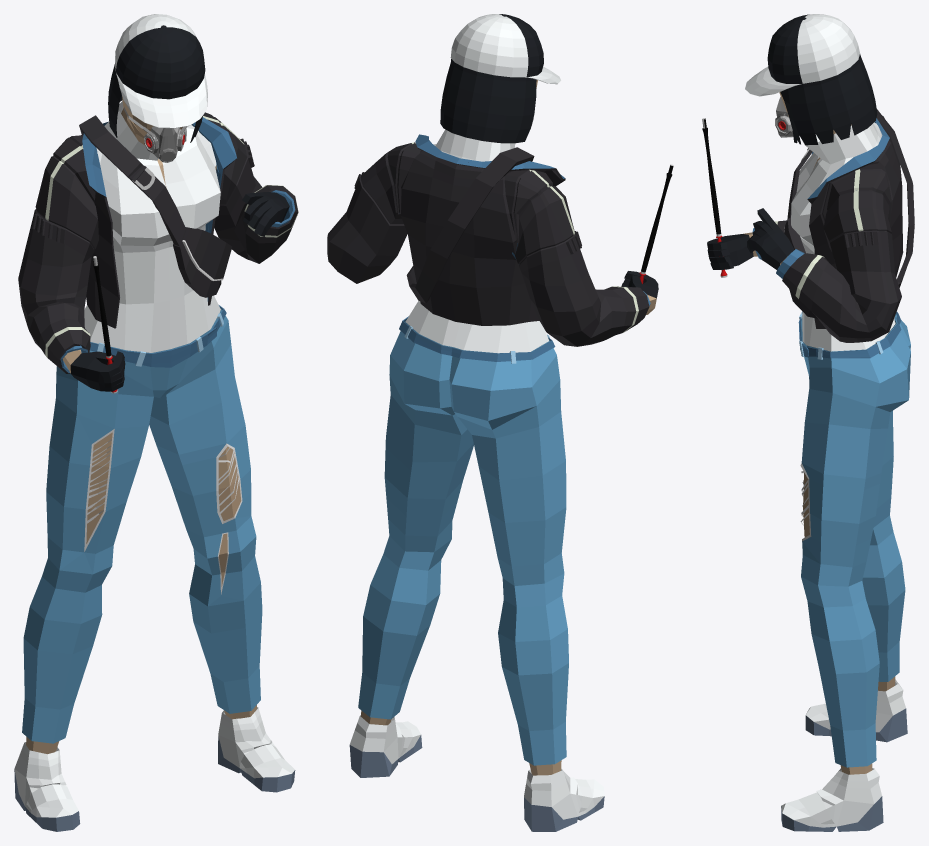
3 renders of one model, left to right at view 1: azimuth 30°, elevation 25°; view 2: azimuth 150°, elevation 25°; view 3: azimuth 270°, elevation 25°, orthographic. The views are drawn at different scales.
Visible parts, largest first — view 1: base_mesh_Cube.001, Cylinder.002_Cylinder.011; view 2: base_mesh_Cube.001; view 3: base_mesh_Cube.001, Cylinder.002_Cylinder.011.
Part boxes in pixels (x1=…): base_mesh_Cube.001: x1=14, y1=14, x2=298, y2=831; Cylinder.002_Cylinder.011: x1=93, y1=256, x2=117, y2=393; base_mesh_Cube.001: x1=327, y1=14, x2=658, y2=831; base_mesh_Cube.001: x1=707, y1=14, x2=914, y2=831; Cylinder.002_Cylinder.011: x1=702, y1=118, x2=727, y2=277.
Size of the model in its own units: 0.6601 by 1.79 by 0.4579.
